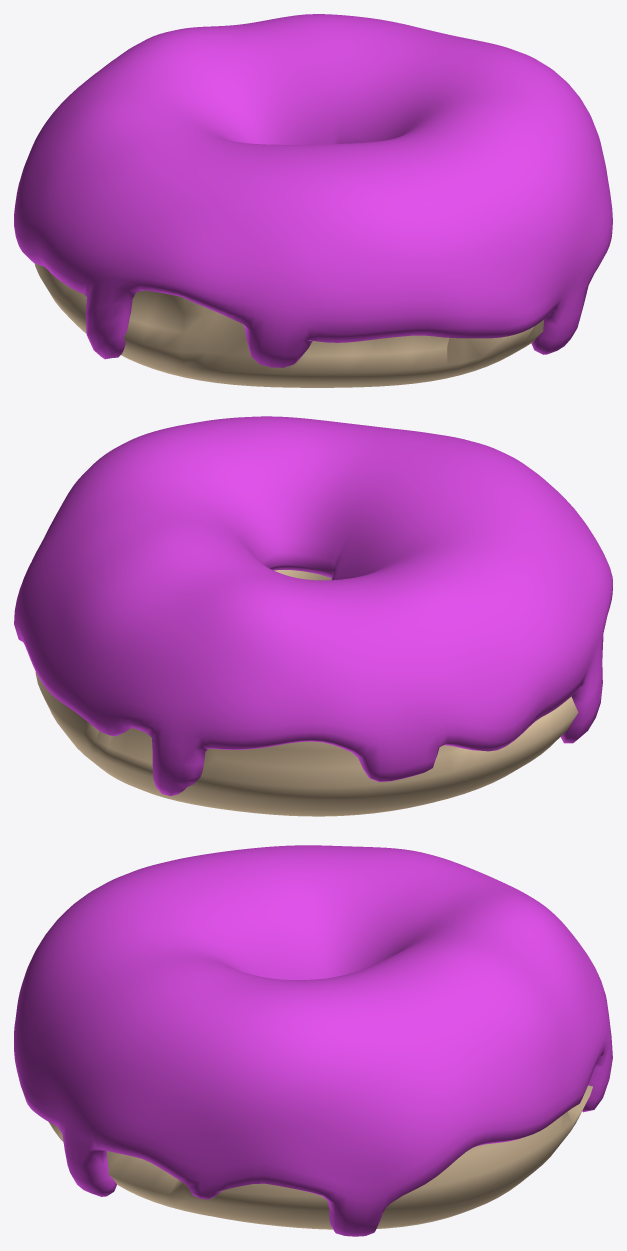
File: donut.glb
3 views of the same model, one above another, from view 1: azimuth 30°, elevation 25°; view 2: azimuth 150°, elevation 25°; view 3: azimuth 270°, elevation 25° (orthographic). The views are drawn at different scales.
Visible parts, largest first — view 1: Icing, Donut; view 2: Icing, Donut; view 3: Icing, Donut.
Part boxes in pixels (x1=…): Icing: x1=14, y1=14, x2=612, y2=367; Donut: x1=35, y1=264, x2=543, y2=387; Icing: x1=14, y1=416, x2=612, y2=795; Donut: x1=35, y1=570, x2=578, y2=816; Icing: x1=14, y1=845, x2=612, y2=1236; Donut: x1=49, y1=1085, x2=592, y2=1229.
Size of what is drawn, in the model's own units: 0.1051 by 0.0475 by 0.1067.
